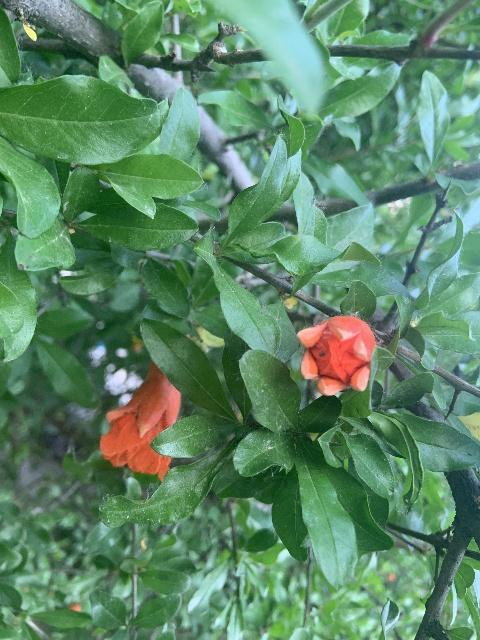flower: (98, 360, 181, 481), (297, 314, 375, 394)
